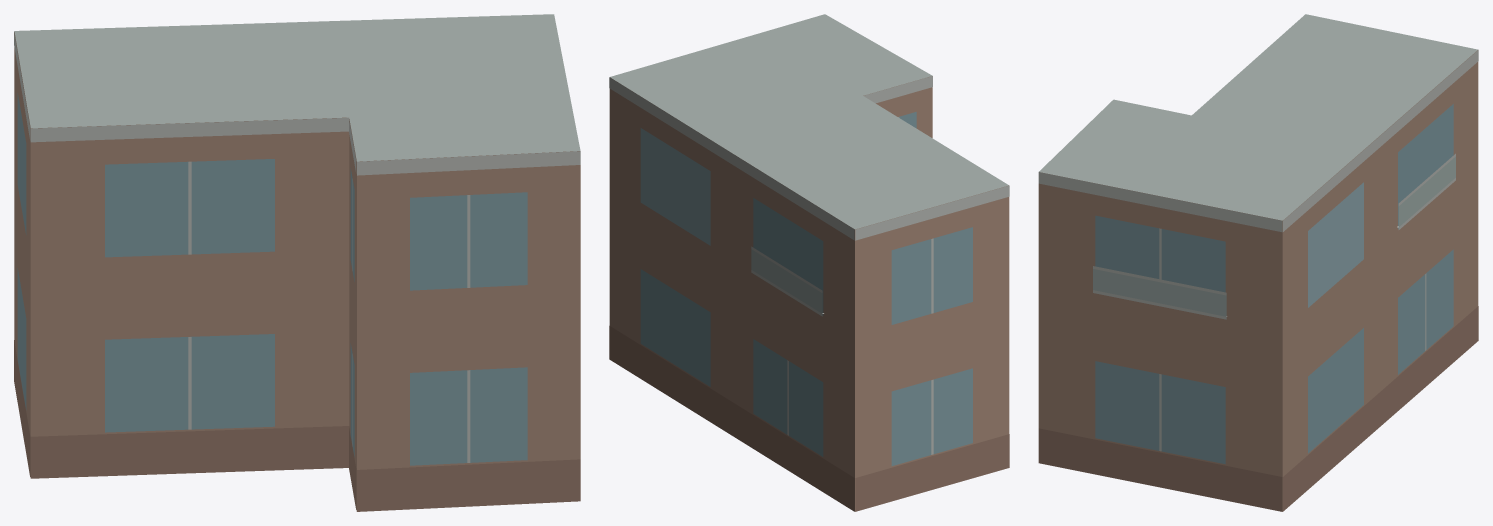
Rendered from survey-upis-32820622.glb.
3 renders of one model, left to right at view 1: azimuth 30°, elevation 25°; view 2: azimuth 150°, elevation 25°; view 3: azimuth 270°, elevation 25°, orthographic. The views are drawn at different scales.
Parts seen in each view (by area): view 1: survey-upis-32820622.tmp; view 2: survey-upis-32820622.tmp; view 3: survey-upis-32820622.tmp.
Boxes of the visible parts, bbox=[...] form: survey-upis-32820622.tmp: bbox=[14, 14, 580, 511]; survey-upis-32820622.tmp: bbox=[609, 14, 1009, 511]; survey-upis-32820622.tmp: bbox=[1038, 14, 1478, 511].
Size of the model in its own units: 9.3 by 6.1 by 8.36.
